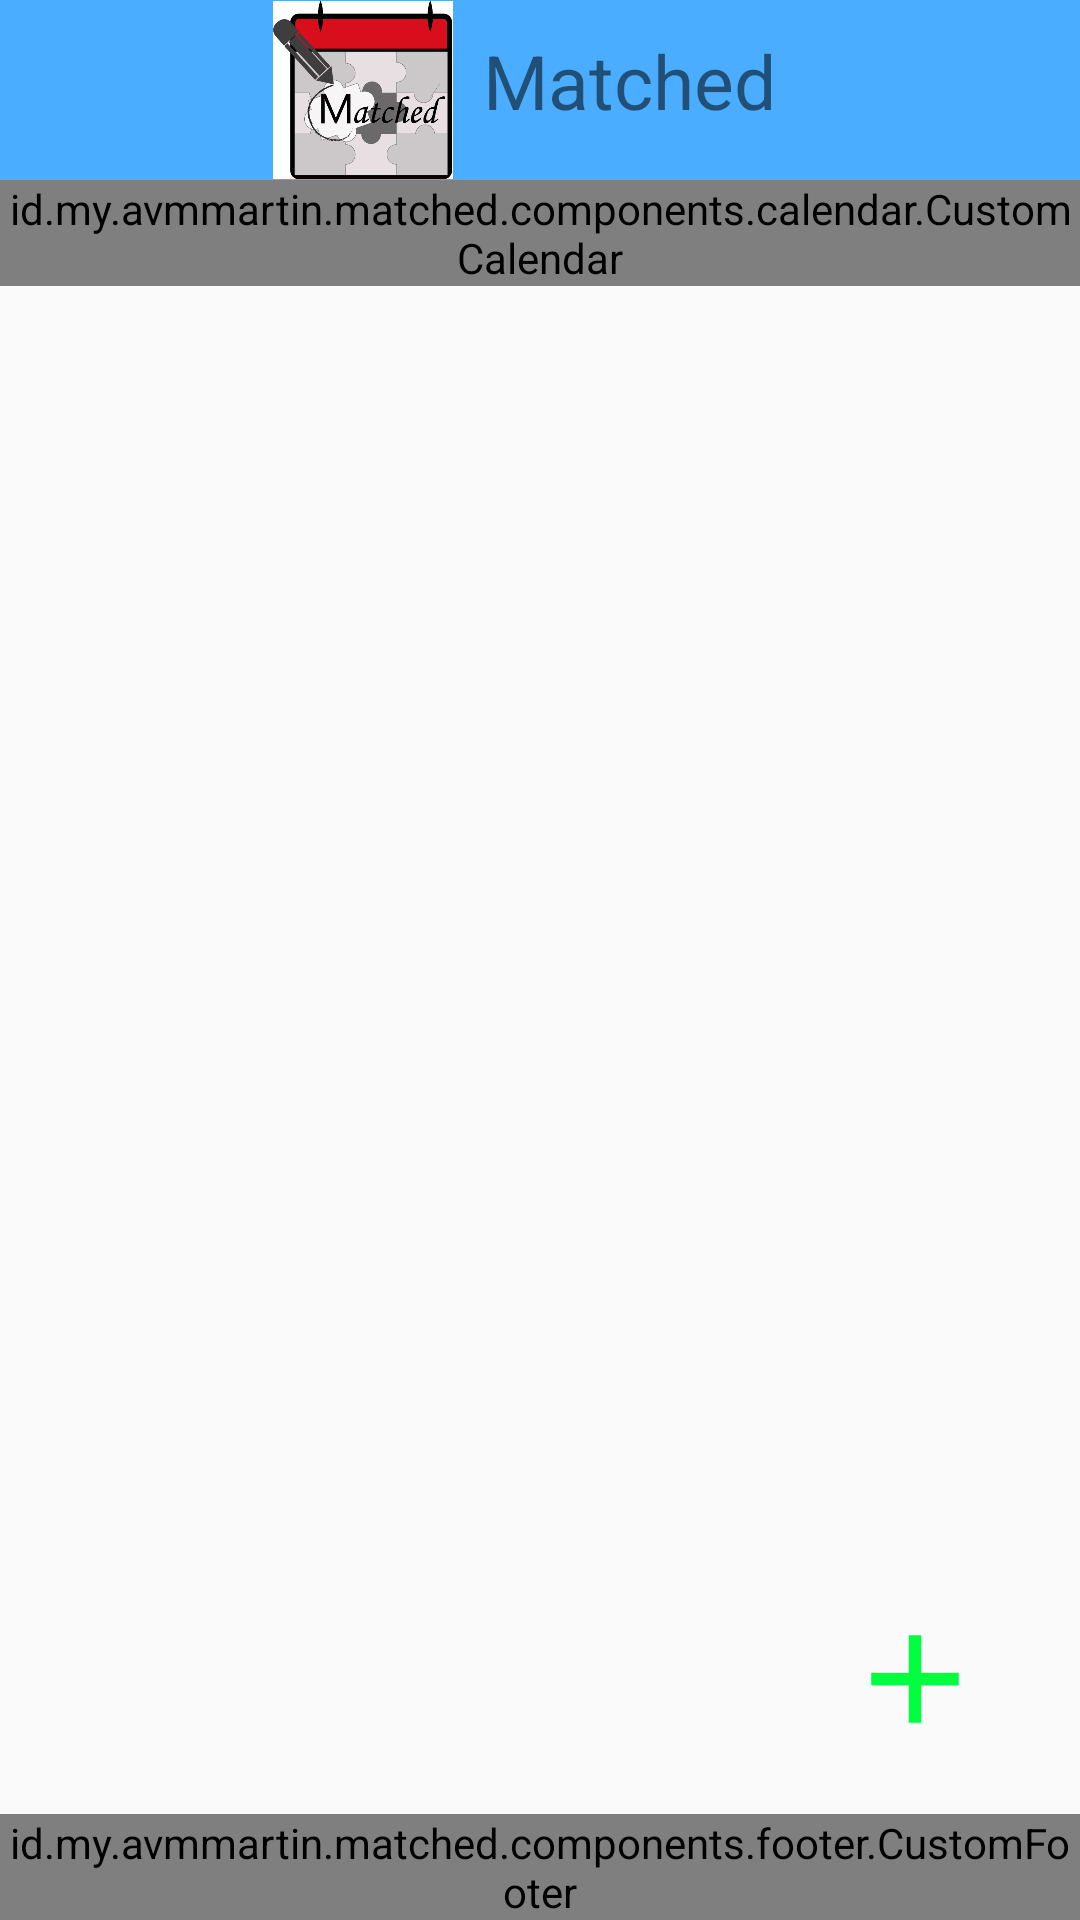

Where to tap for icons on this 1080 × 1920 app screen, as point (x, y):
add: point (915, 1679)
